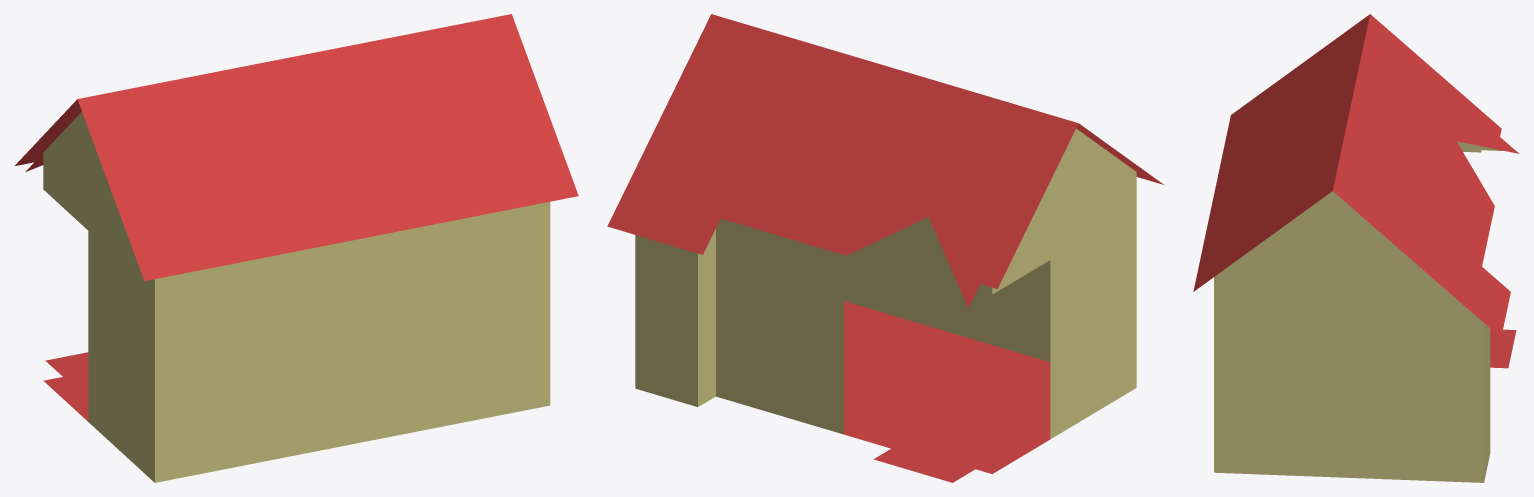
3 views of the same model, side by side, from view 1: azimuth 30°, elevation 25°; view 2: azimuth 150°, elevation 25°; view 3: azimuth 270°, elevation 25° (orthographic). The views are drawn at different scales.
Bounding box in the file's own units: 17.68 × 12.92 × 12.85.
